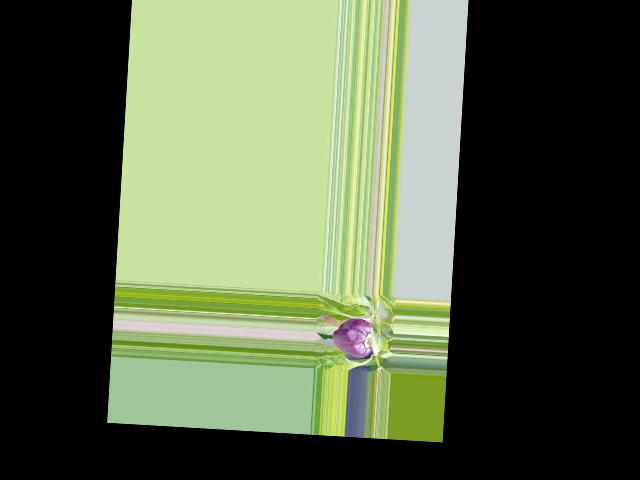bell_pepper: (329, 316, 378, 358)
